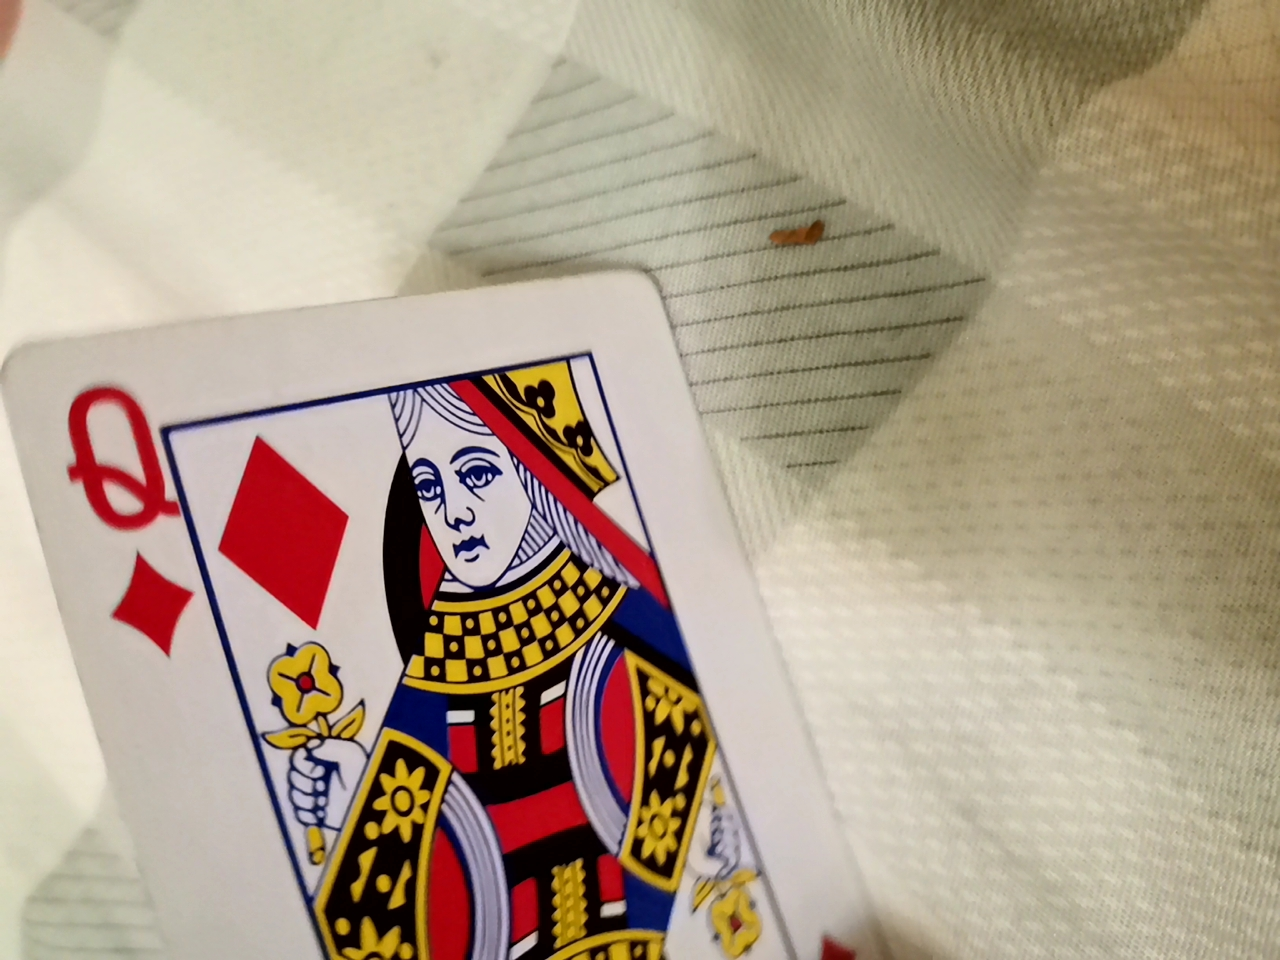fk q: (21, 246, 958, 956)
